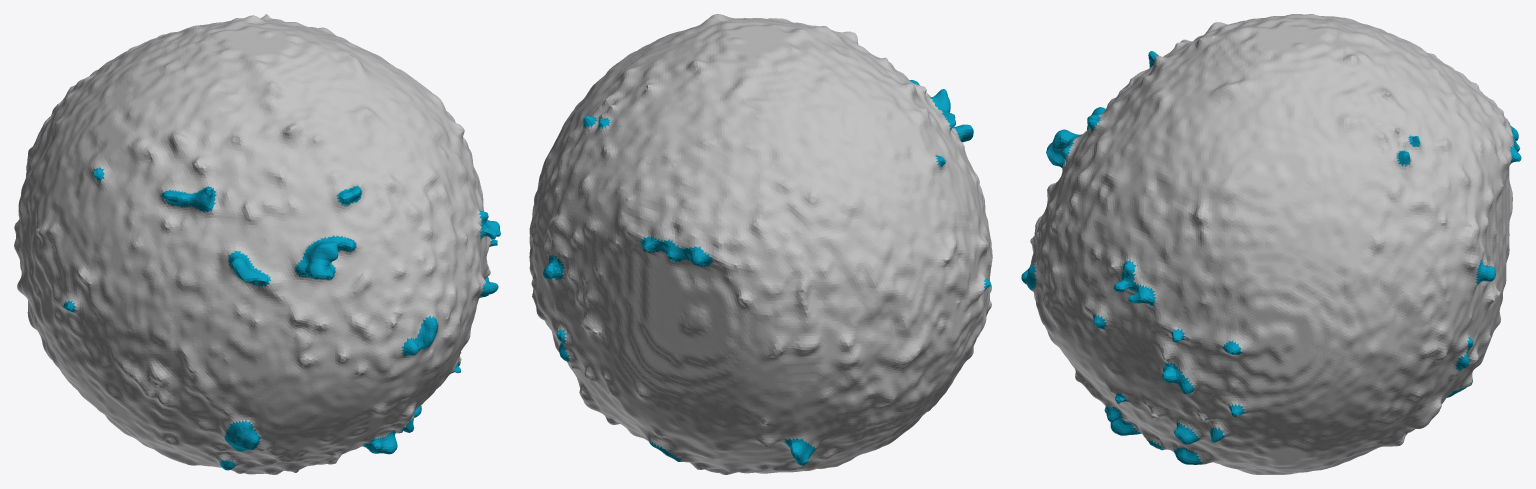
The picture shows the model from 3 angles, left to right: view 1: azimuth 30°, elevation 25°; view 2: azimuth 150°, elevation 25°; view 3: azimuth 270°, elevation 25°; orthographic projection. The views are drawn at different scales.
Bounding box in the file's own units: 129 × 122 × 133.
